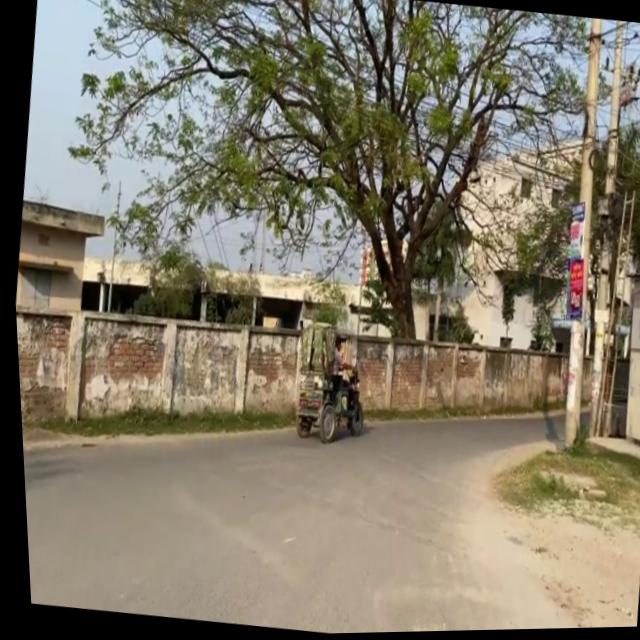Bench: (281, 318, 371, 450)
Construction-barrier: (14, 333, 587, 524), (16, 388, 291, 486), (354, 380, 585, 454), (527, 467, 604, 507), (577, 432, 640, 468)
Garbage-bin: (318, 336, 360, 414)
Light-pole: (533, 19, 626, 454), (561, 23, 640, 442)
Traffic-light: (12, 285, 592, 491)
